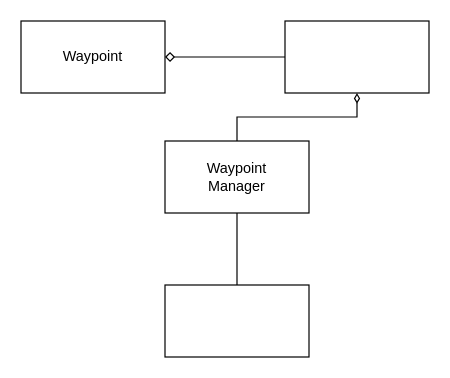
The diagram is 450 pixels wide and 378 high, and some of its shapes have lost their labels. The box of each missing label's shape, as (x1, y1, x2, y2) in pixels:
Enemy: (164, 284, 309, 357)
Waypoint Group: (284, 20, 429, 93)
